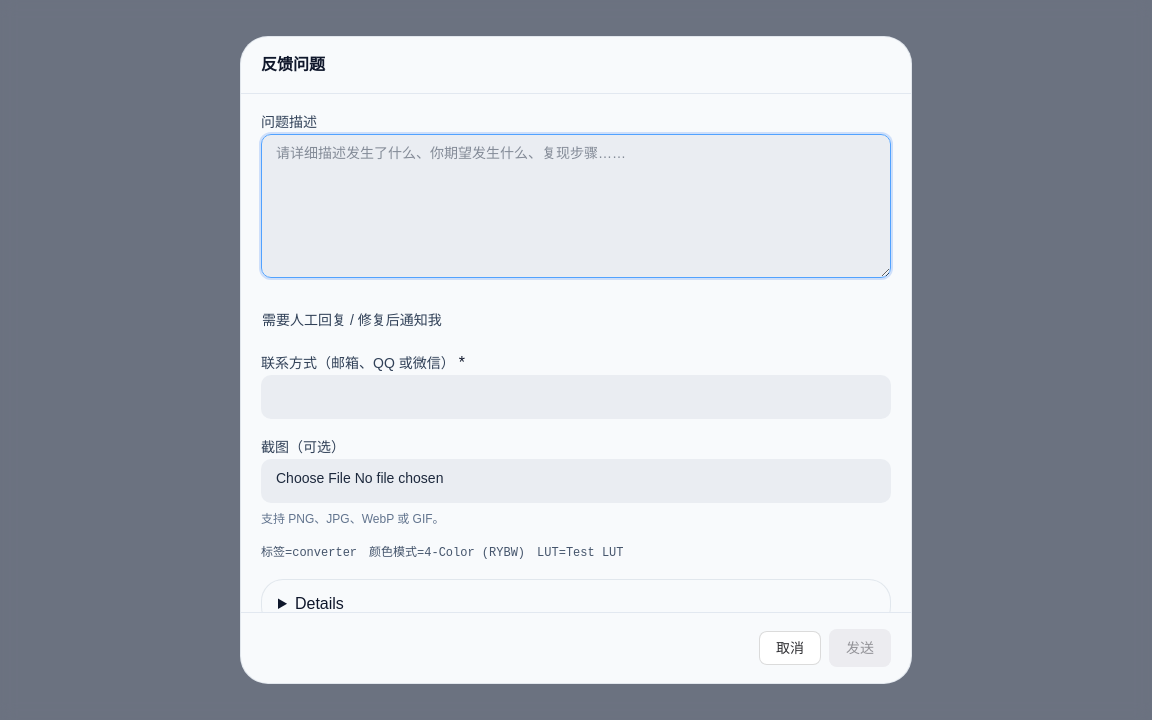
BugReportModal › shows the failed original-image result
Type "Check source attachment status." into the text box labelled "问题描述" at (576, 206), box [261,134,891,278]
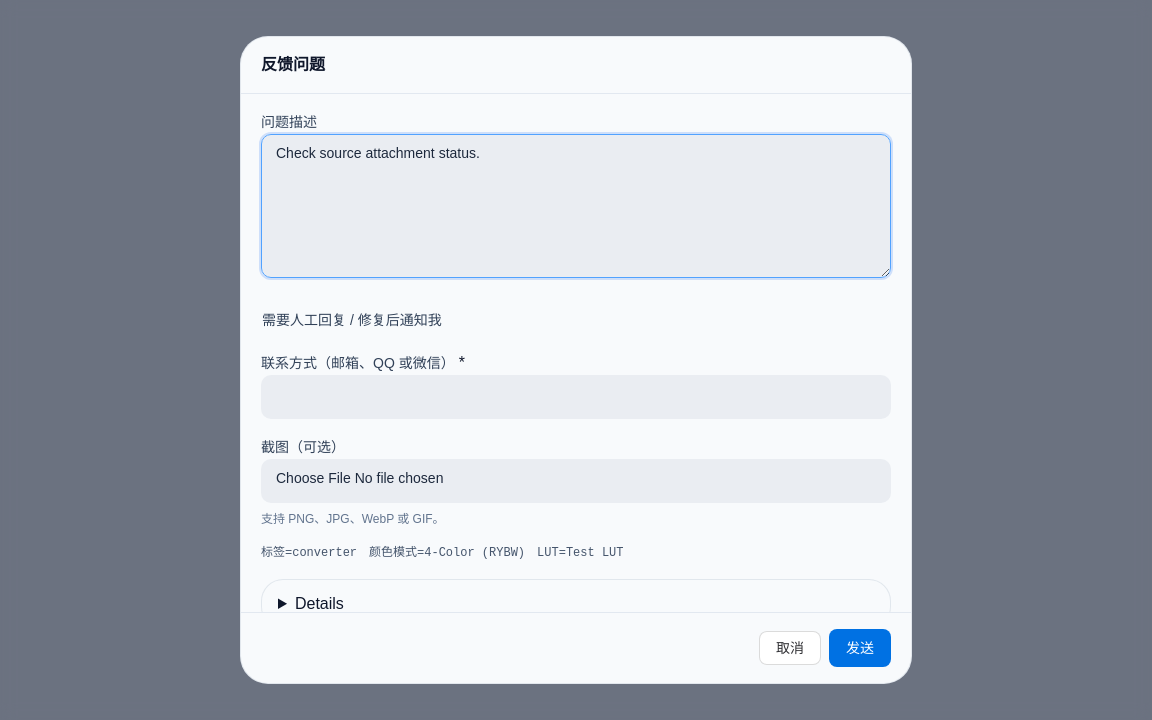
Click the switch labelled "需要人工回复 / 修复后通知我" at (352, 320), box [262,310,442,330]
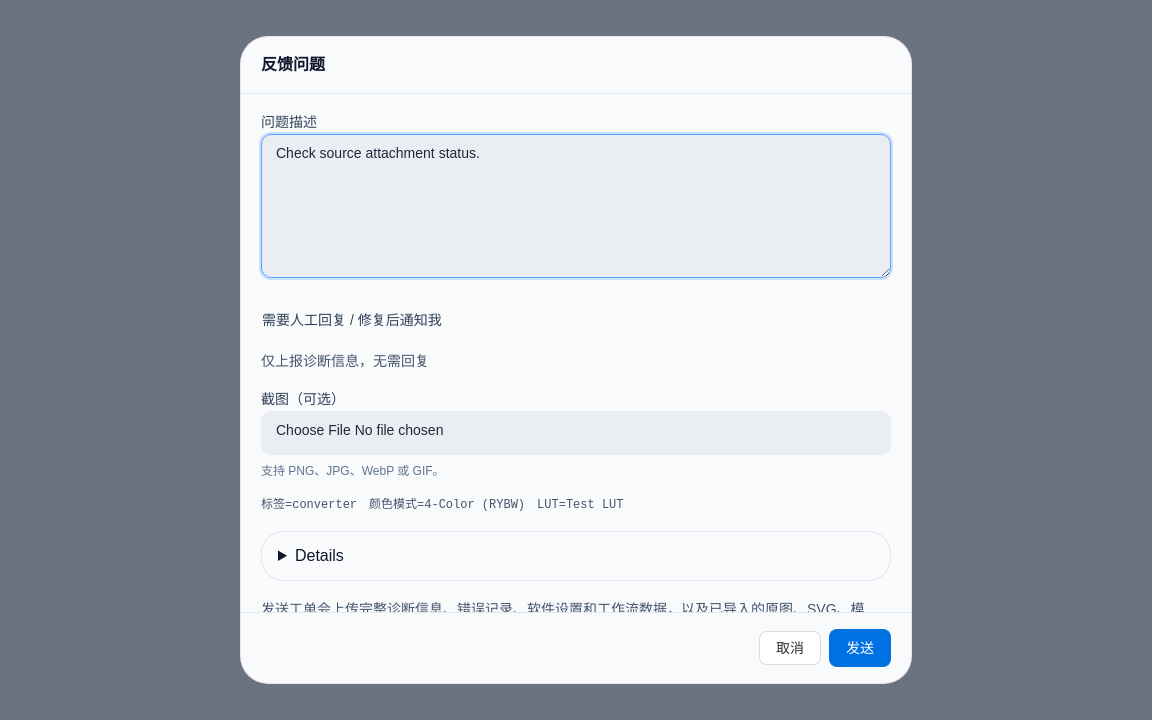
Click the button "发送" at (860, 648), box [829,629,891,667]
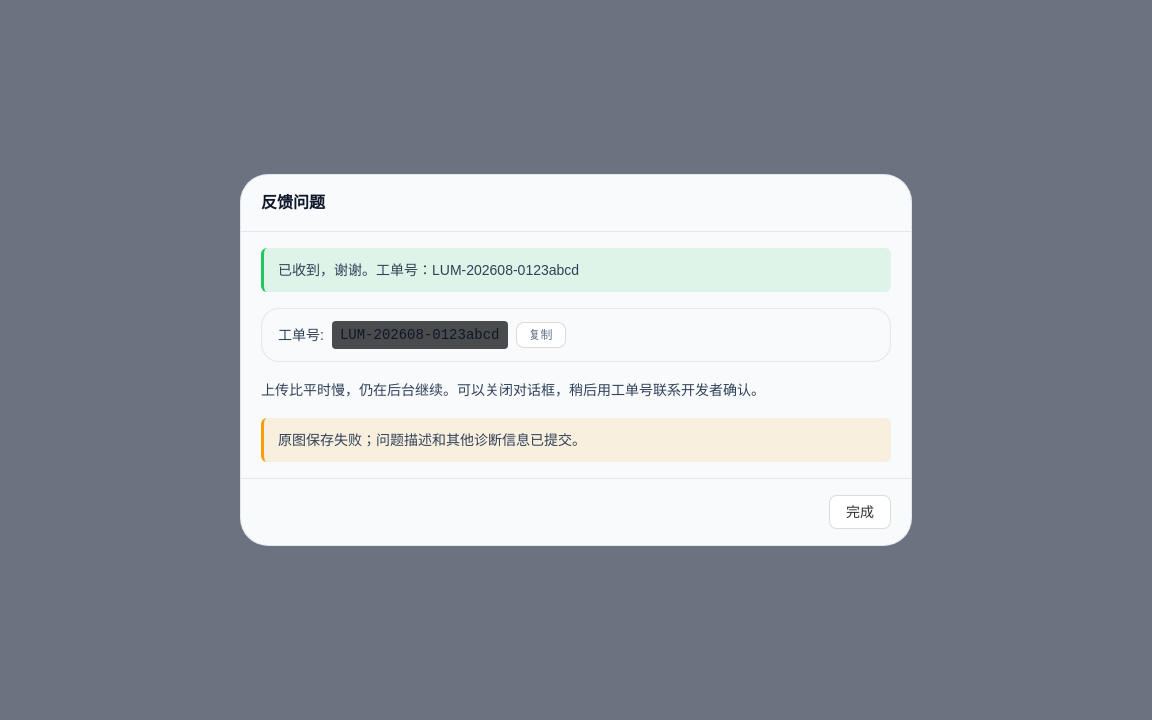
Expected: the text with test id "bug-report-original-image-status" shows "原图保存失败", [278,432,586,448]
